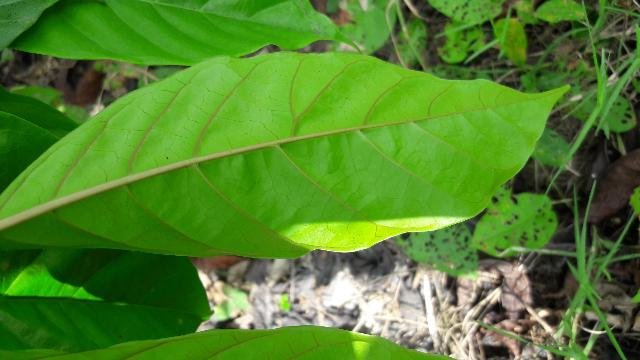healthy: (4, 51, 569, 259)
